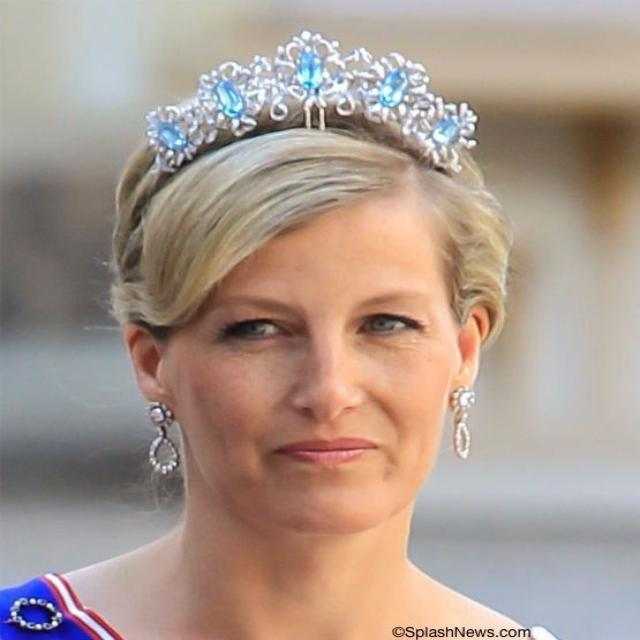Earring: (131, 394, 193, 490), (430, 364, 486, 466)
